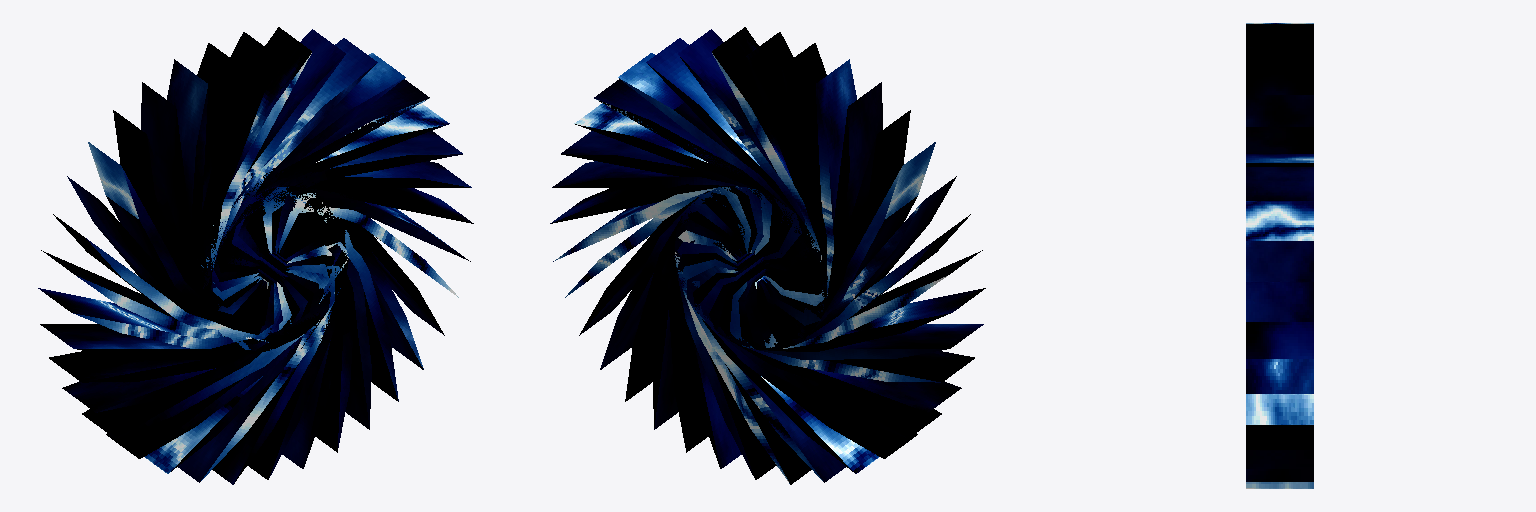
The picture shows the model from 3 angles: view 1: azimuth 30°, elevation 25°; view 2: azimuth 150°, elevation 25°; view 3: azimuth 270°, elevation 25°; orthographic projection.
Parts seen in each view (by area): view 1: Circle; view 2: Circle; view 3: Circle.
Boxes of the visible parts, <box> form: Circle: <box>38,27,473,484</box>; Circle: <box>550,27,985,484</box>; Circle: <box>1246,23,1313,488</box>.
Size of the model in its own units: 18.14 by 18.14 by 2.65.
1 materials, 1 textured.